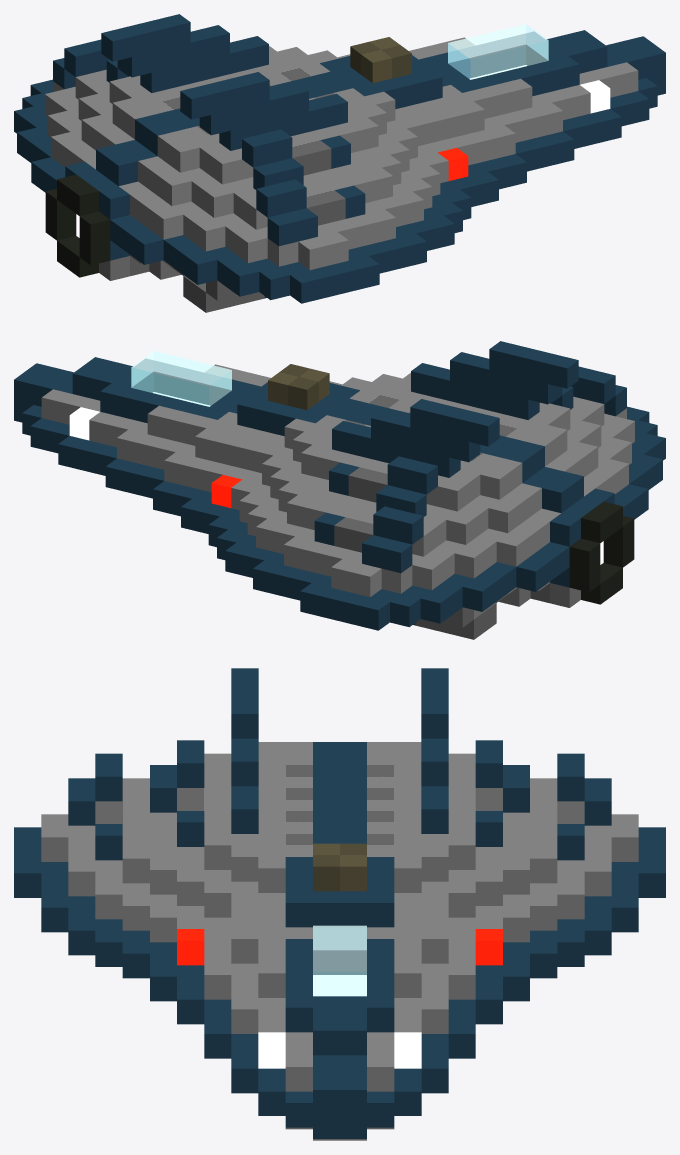
File: TestShip.glb
The picture shows the model from 3 angles, top to bottom: view 1: azimuth 30°, elevation 25°; view 2: azimuth 150°, elevation 25°; view 3: azimuth 270°, elevation 25°; orthographic projection. The views are drawn at different scales.
Visible parts, largest first — view 1: pl1, pl0, pl7, pl2; view 2: pl1, pl0, pl7, pl2; view 3: pl1, pl0, pl2, pl7.
Part boxes in pixels (x1=…): pl1: x1=14, y1=14, x2=665, y2=303; pl0: x1=45, y1=37, x2=638, y2=312; pl7: x1=448, y1=24, x2=548, y2=79; pl2: x1=76, y1=65, x2=610, y2=237; pl1: x1=14, y1=341, x2=665, y2=630; pl0: x1=41, y1=364, x2=634, y2=639; pl7: x1=131, y1=351, x2=231, y2=406; pl2: x1=69, y1=392, x2=603, y2=564; pl1: x1=14, y1=668, x2=665, y2=1138; pl0: x1=41, y1=742, x2=638, y2=1140; pl2: x1=177, y1=929, x2=502, y2=1068; pl7: x1=313, y1=925, x2=366, y2=996.
Size of the model in its own units: 3 by 0.9 by 2.4.
Materials: 4 (4 with a texture image).
